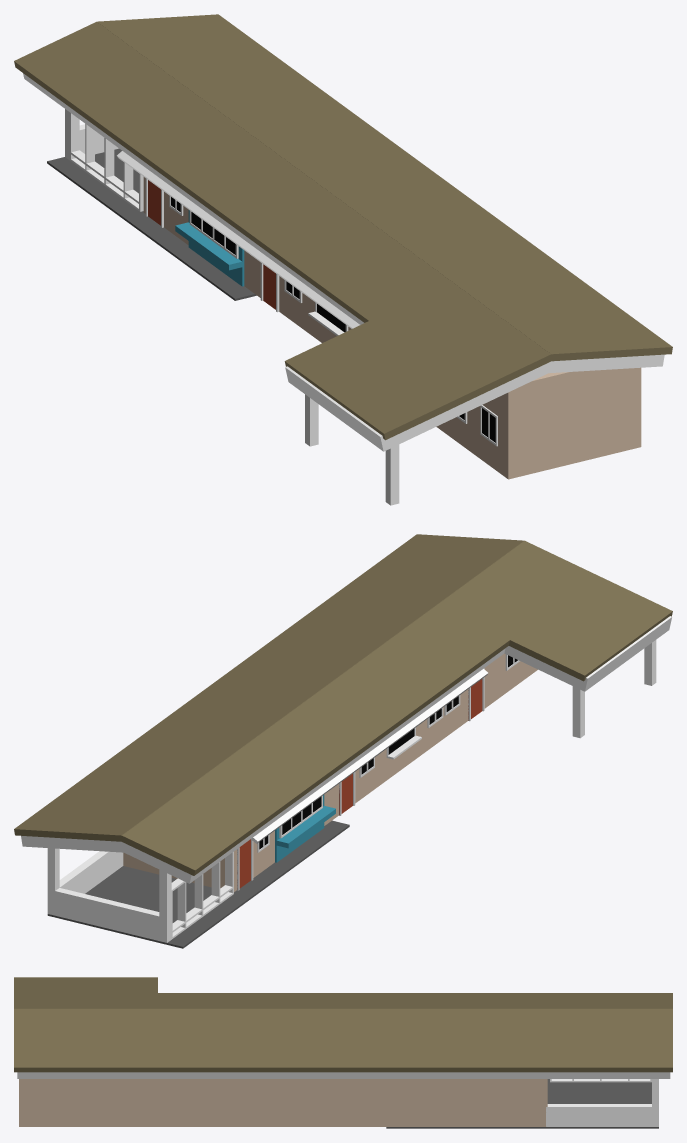
Rendered from Water&LaundryDep.glb.
3 views of the same model, one above another, from view 1: azimuth 30°, elevation 25°; view 2: azimuth 150°, elevation 25°; view 3: azimuth 270°, elevation 25° (orthographic). The views are drawn at different scales.
Visible parts, largest first — view 1: cube.104; view 2: cube.104; view 3: cube.104.
Part boxes in pixels (bbox=[...]): cube.104: bbox=[14, 14, 672, 505]; cube.104: bbox=[14, 534, 672, 948]; cube.104: bbox=[14, 977, 672, 1128].
Size of the model in its own units: 2.73 by 1.08 by 7.4.
9 materials, 9 textured.
